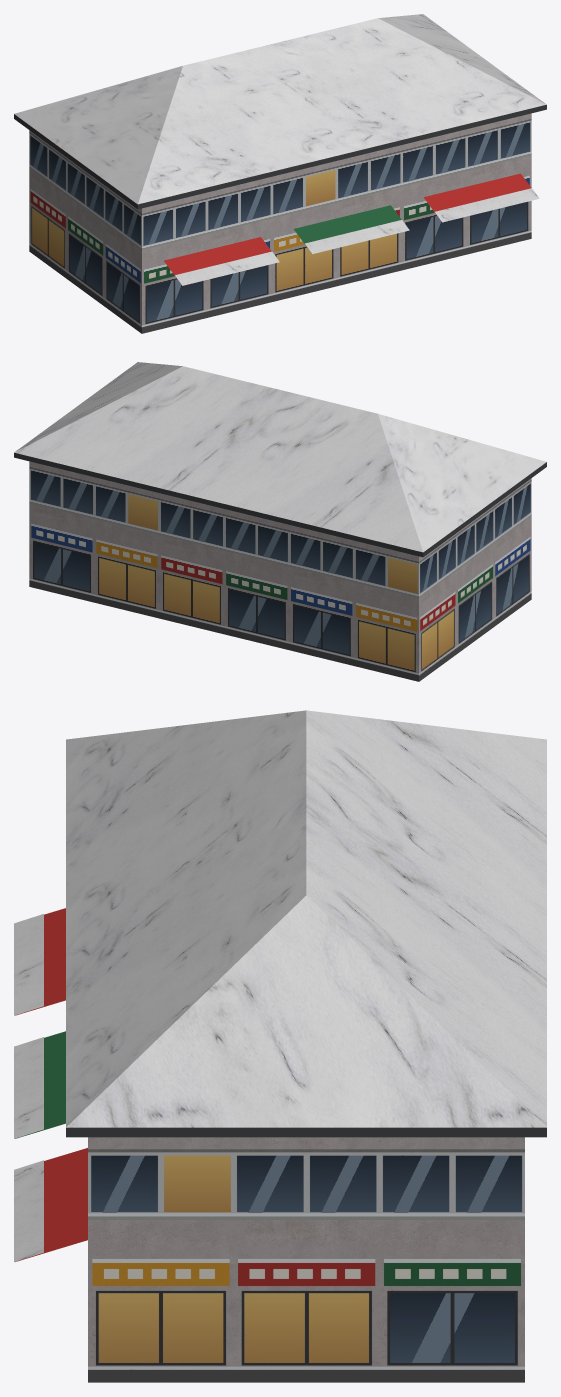
File: c_shops.glb
3 renders of one model, top to bottom at view 1: azimuth 30°, elevation 25°; view 2: azimuth 150°, elevation 25°; view 3: azimuth 270°, elevation 25°, orthographic. The views are drawn at different scales.
Parts seen in each view (by area): view 1: House; view 2: House; view 3: House.
Part boxes in pixels (x1,y1,x2,y2): House: (14, 14, 546, 333); House: (14, 362, 546, 681); House: (14, 710, 546, 1382).
Size of the model in its own units: 18.9 by 8.97 by 10.97.
3 materials, 3 textured.
